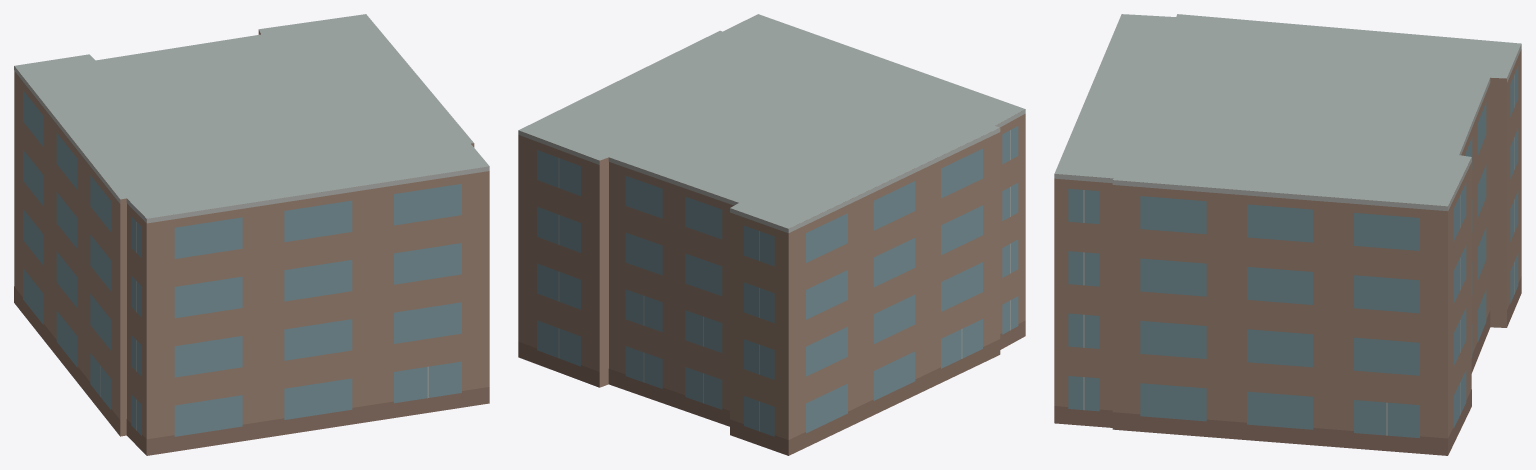
File: survey-upis-32676893.glb
3 views of the same model, side by side, from view 1: azimuth 30°, elevation 25°; view 2: azimuth 150°, elevation 25°; view 3: azimuth 270°, elevation 25° (orthographic). The views are drawn at different scales.
Visible parts, largest first — view 1: survey-upis-32676893.tmp; view 2: survey-upis-32676893.tmp; view 3: survey-upis-32676893.tmp.
Part boxes in pixels (left/top/right/bottom): survey-upis-32676893.tmp: left=14, top=14, right=489, bottom=455; survey-upis-32676893.tmp: left=518, top=14, right=1025, bottom=455; survey-upis-32676893.tmp: left=1054, top=14, right=1521, bottom=455.
Size of the model in its own units: 20.67 by 12.5 by 21.22.
